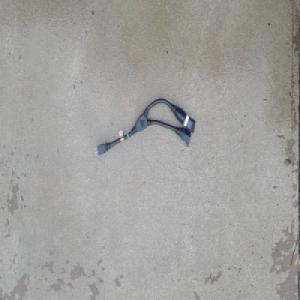Wire: (93, 96, 196, 157)
